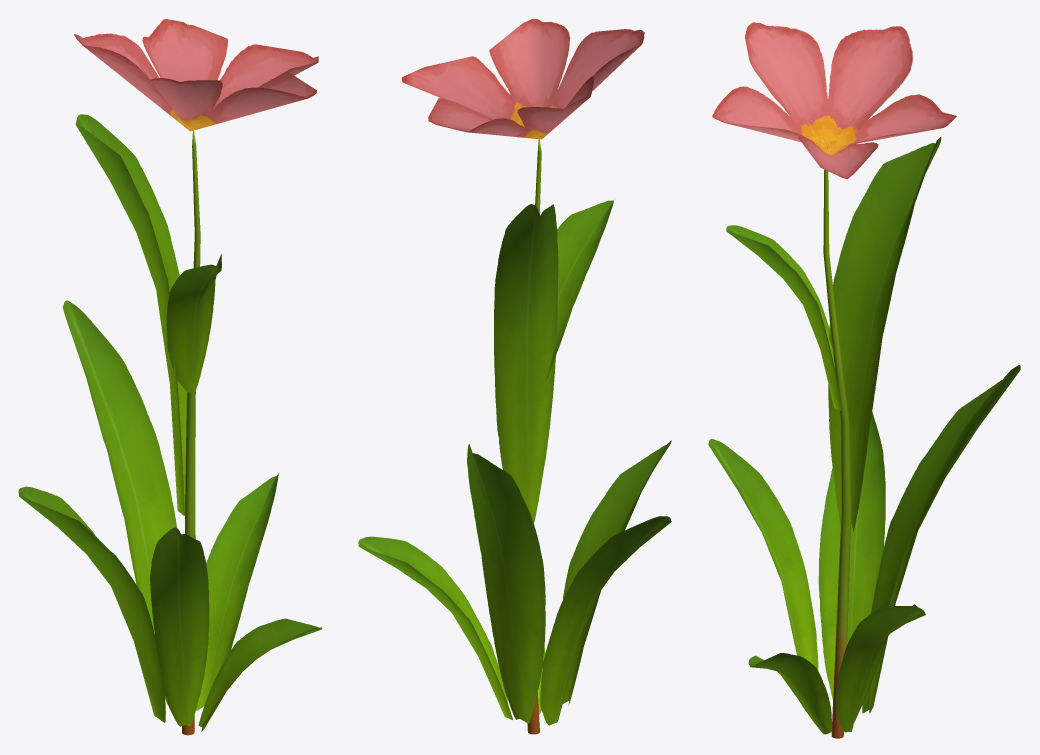
File: Flower_3_Single.gltf
3 renders of one model, left to right at view 1: azimuth 30°, elevation 25°; view 2: azimuth 150°, elevation 25°; view 3: azimuth 270°, elevation 25°, orthographic. The views are drawn at different scales.
Parts seen in each view (by area): view 1: Flower_3_Single; view 2: Flower_3_Single; view 3: Flower_3_Single.
Boxes of the visible parts, left/top/right/bottom form: Flower_3_Single: left=18, top=19, right=322, bottom=735; Flower_3_Single: left=358, top=18, right=671, bottom=734; Flower_3_Single: left=708, top=22, right=1020, bottom=738.
Size of the model in its own units: 0.9067 by 2.07 by 0.8774.
2 materials, 2 textured.
